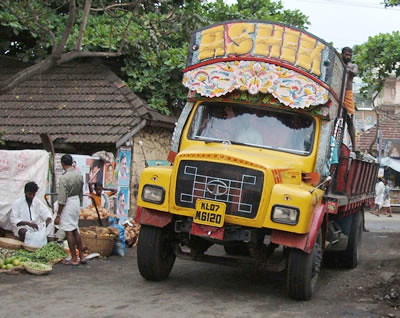lorry: (137, 20, 378, 298)
numberplate: (192, 197, 227, 227)
